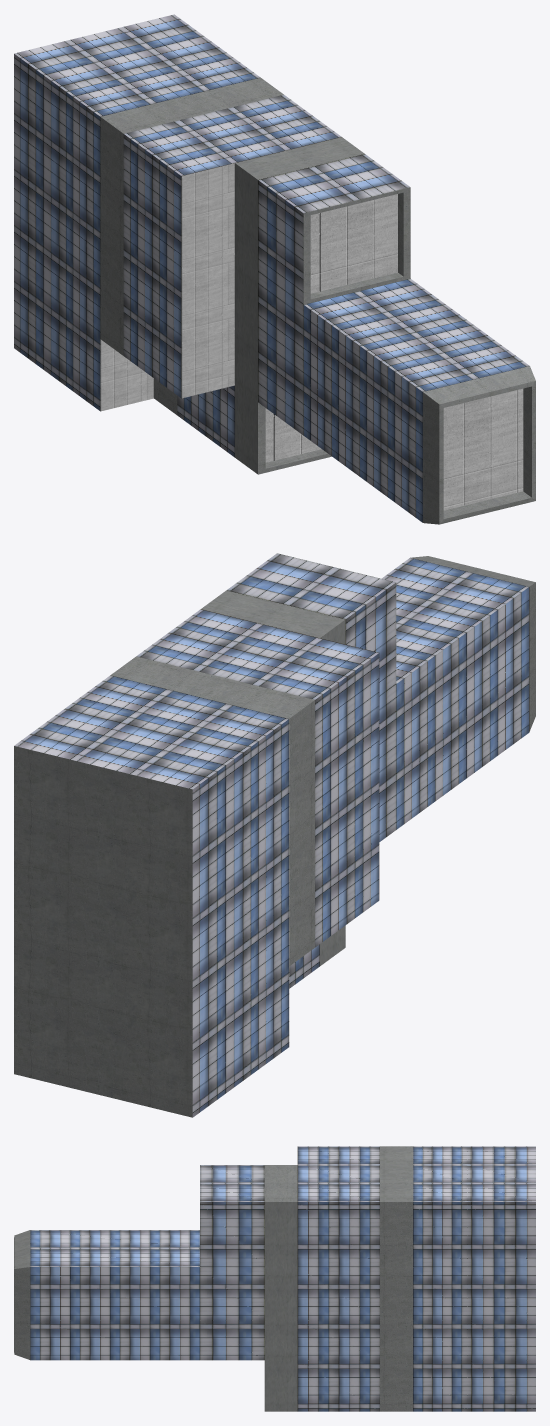
File: skyscraper_windowD_05.obj
3 renders of one model, top to bottom at view 1: azimuth 30°, elevation 25°; view 2: azimuth 150°, elevation 25°; view 3: azimuth 270°, elevation 25°, orthographic. The views are drawn at different scales.
Parts seen in each view (by area): view 1: Object63; view 2: Object63; view 3: Object63.
Part boxes in pixels (bbox=[...]): Object63: bbox=[14, 14, 535, 524]; Object63: bbox=[14, 553, 535, 1117]; Object63: bbox=[14, 1146, 535, 1411].
Size of the model in its own units: 48 by 84.23 by 190.
Materials: 3 (3 with a texture image).
